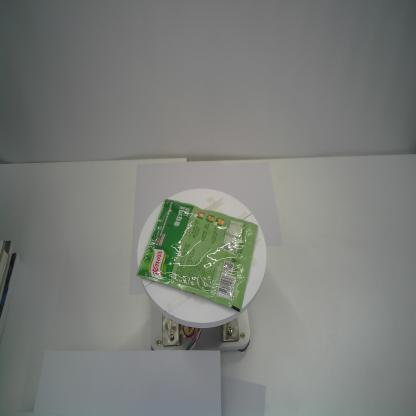Seasoner: (135, 198, 258, 314)
